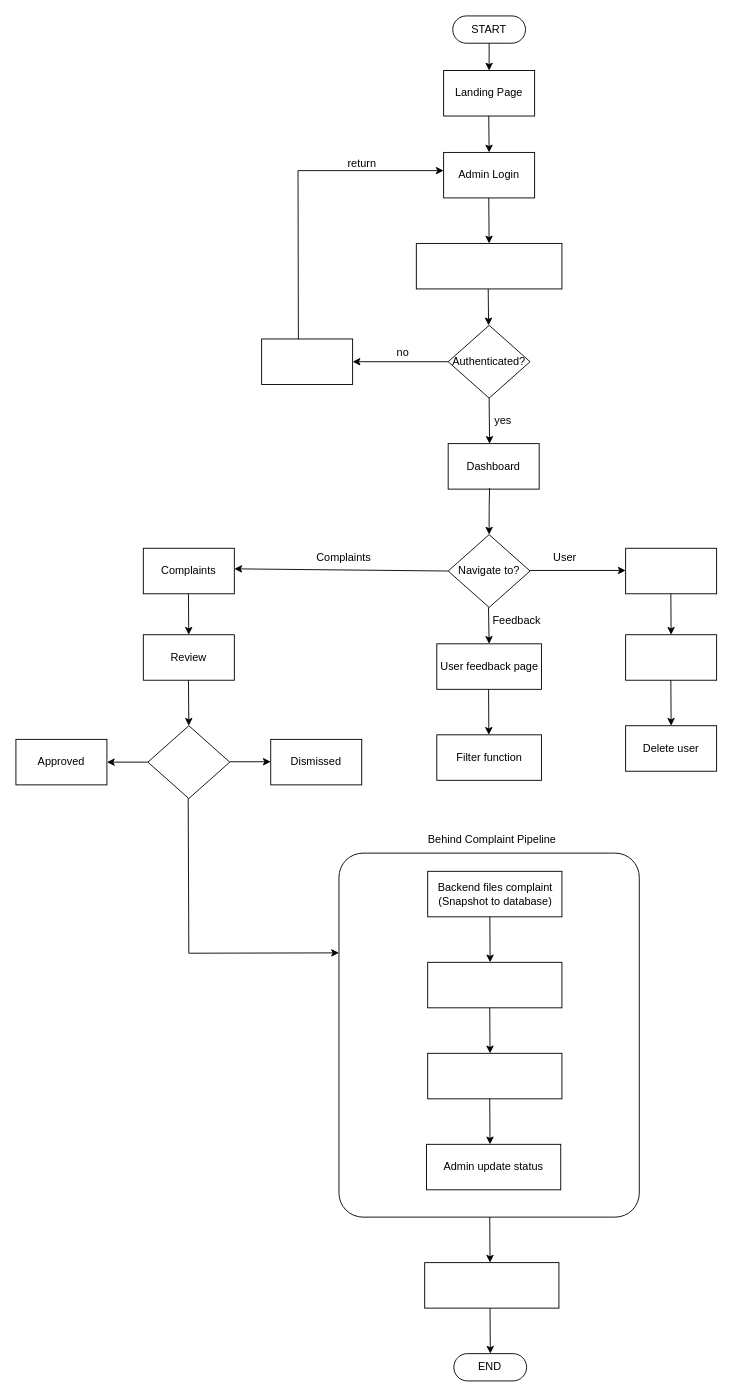
Image size: 733x1397. Some labels were removed from this diagram. The shapes that lost their labels are listed below. From the top down, each one's centre as x and y in pixels, then its label:
(x=488, y=266): Check admins table (Email + password match)
(x=307, y=361): Error Show Message
(x=671, y=570): User Management
(x=671, y=657): Add user
(x=188, y=762): Decision?
(x=494, y=984): Complaint record inserted (Status pending)
(x=494, y=1075): Dashboard refresh (10s) (Admin see new pending request)
(x=491, y=1285): Logout
